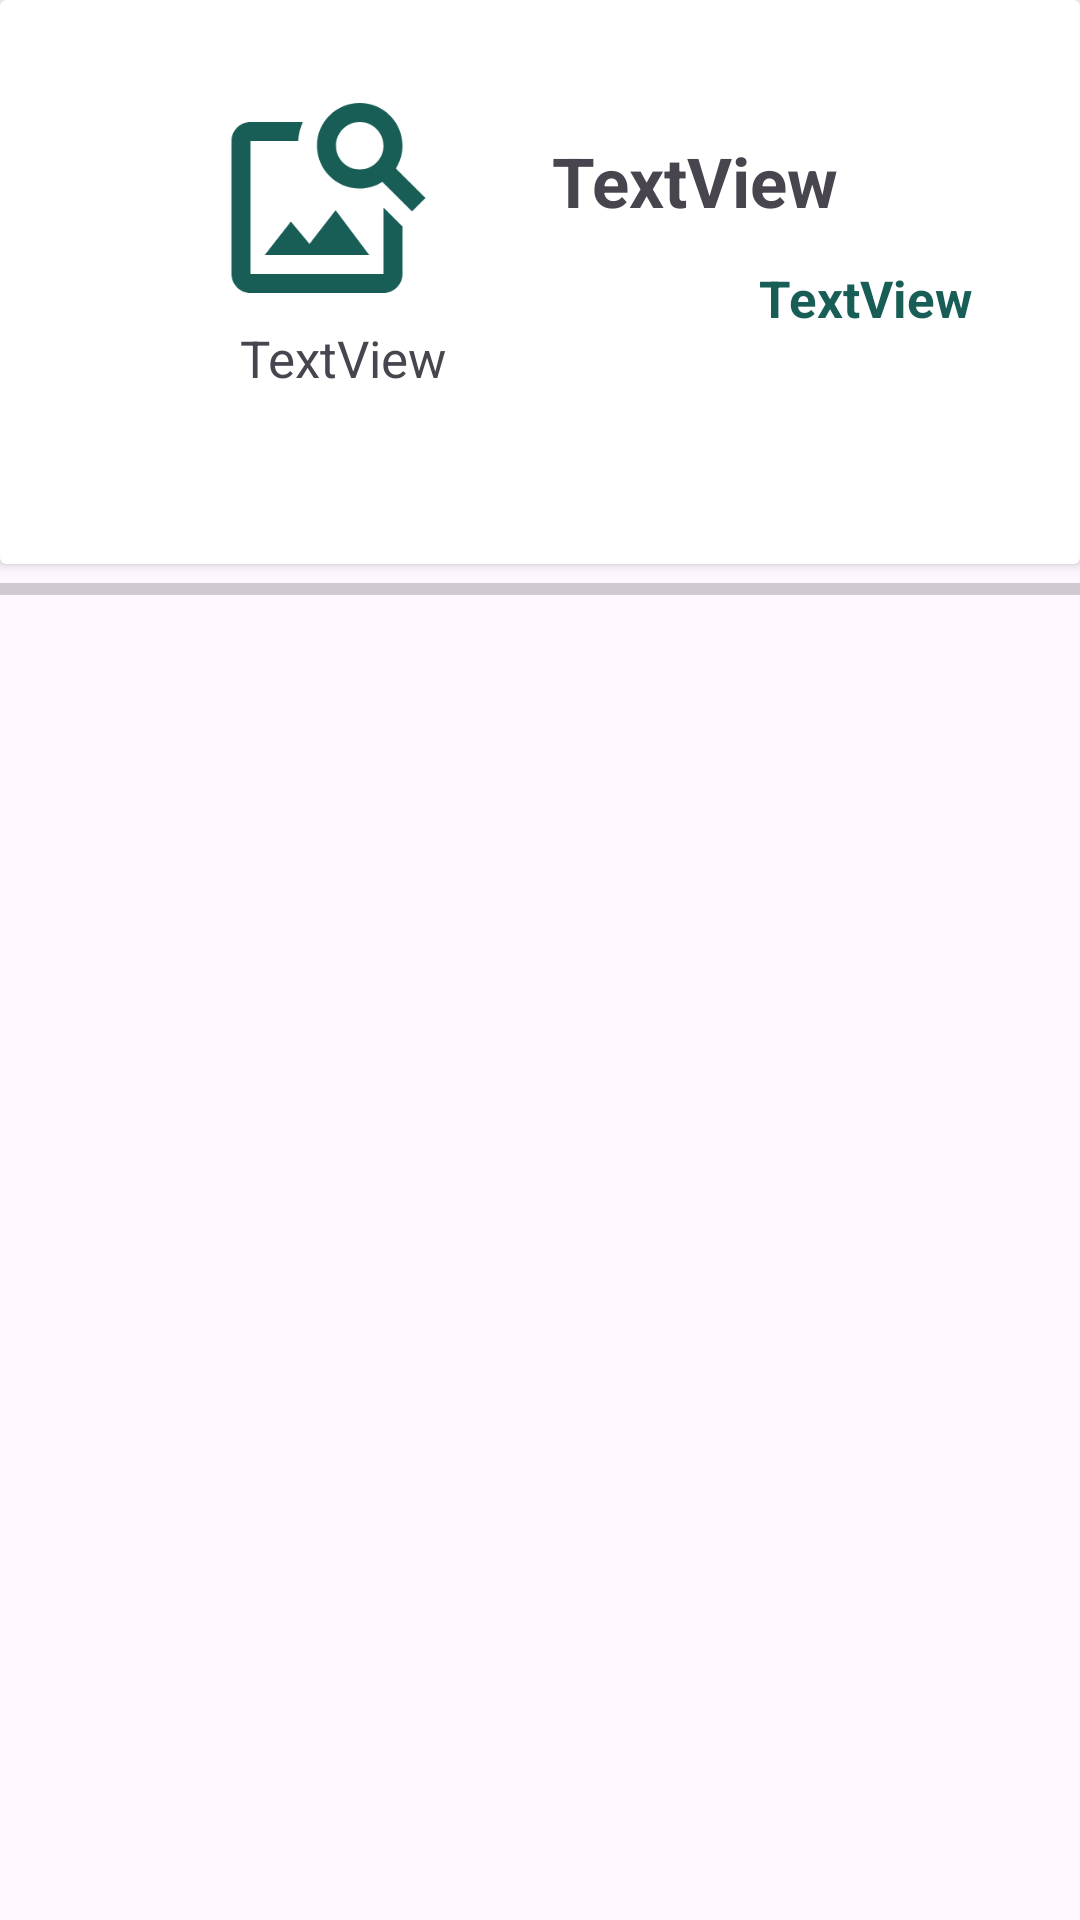

Named icons in this screenshot (1080x1920) and their centers, (x=x, y=y):
productimage: (x=328, y=198)
